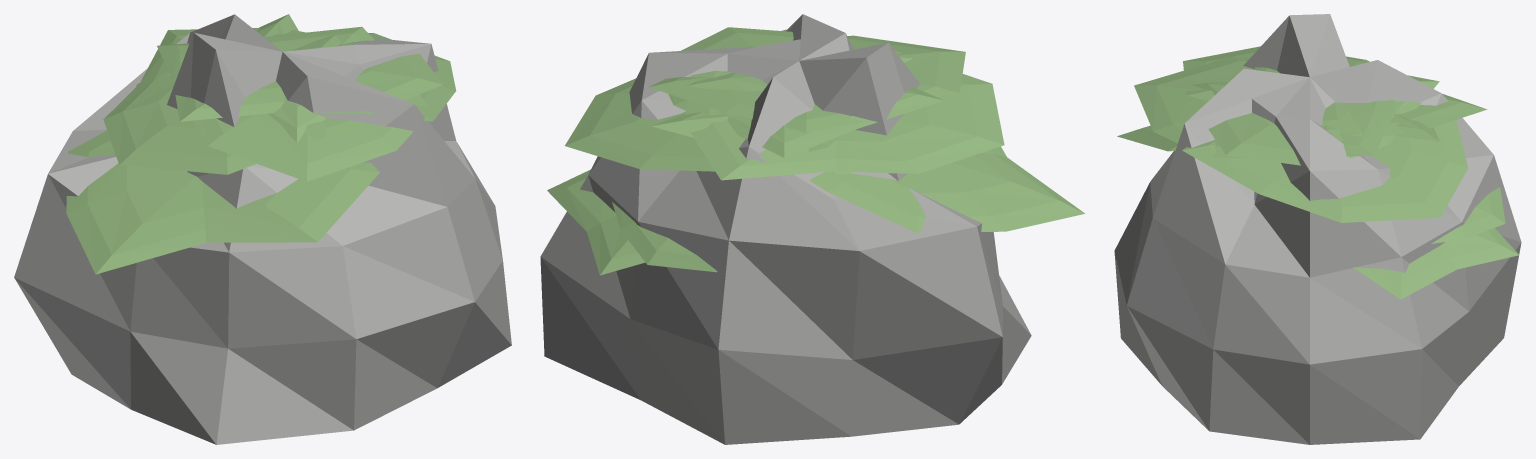
The model's file is dense-temperate-forest-flora-mossy-boulder-large-a8829872.glb.
3 views of the same model, side by side, from view 1: azimuth 30°, elevation 25°; view 2: azimuth 150°, elevation 25°; view 3: azimuth 270°, elevation 25° (orthographic). The views are drawn at different scales.
Visible parts, largest first — view 1: mossy-boulder-large; view 2: mossy-boulder-large; view 3: mossy-boulder-large.
Part boxes in pixels (<box>): mossy-boulder-large: <box>14,14,511,444</box>; mossy-boulder-large: <box>540,14,1084,444</box>; mossy-boulder-large: <box>1114,14,1521,444</box>.
Size of the model in its own units: 2.35 by 1.64 by 2.
